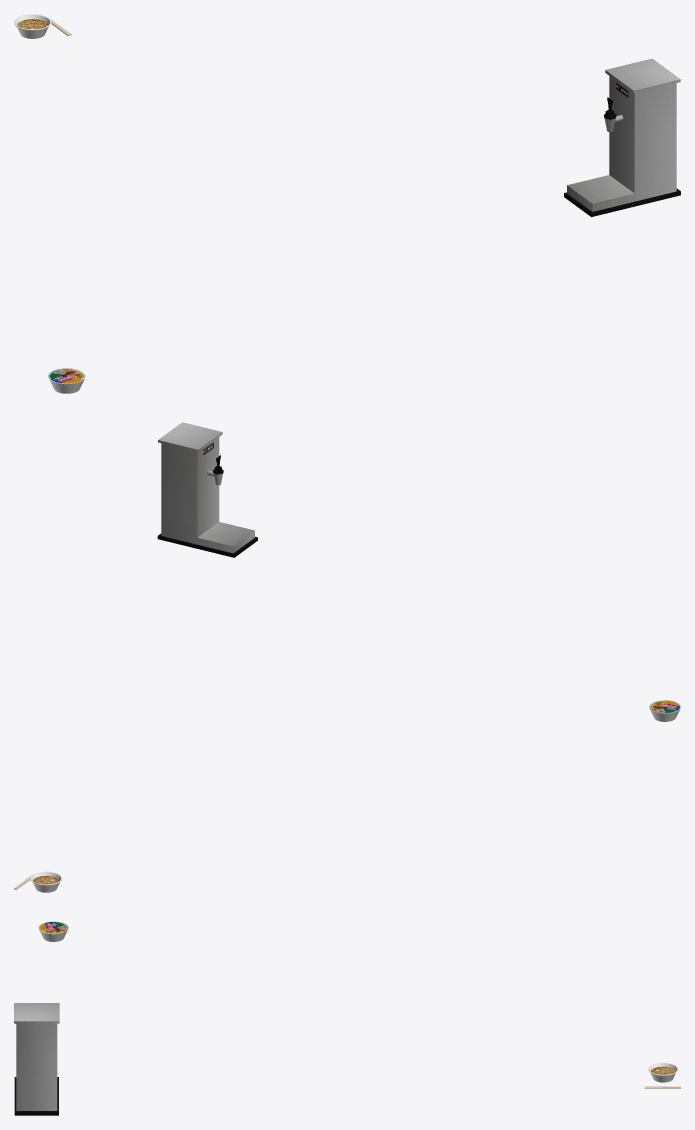
Rendered from cup_01.FBX.
The picture shows the model from 3 angles, top to bottom: view 1: azimuth 30°, elevation 25°; view 2: azimuth 150°, elevation 25°; view 3: azimuth 270°, elevation 25°; orthographic projection. The views are drawn at different scales.
Visible parts, largest first — view 1: Hot_Water, Cup_02, Cup_01; view 2: Hot_Water; view 3: Hot_Water, Cup_02, Cup_01.
Boxes of the visible parts, box(x1,y1,x2,y2) form: Hot_Water: box(564, 58, 680, 216); Cup_02: box(48, 368, 85, 393); Cup_01: box(14, 14, 51, 38); Hot_Water: box(157, 422, 257, 557); Hot_Water: box(14, 1003, 59, 1115); Cup_02: box(38, 921, 68, 941); Cup_01: box(648, 1062, 678, 1082).
Size of the model in its own units: 298 by 89.23 by 353.
